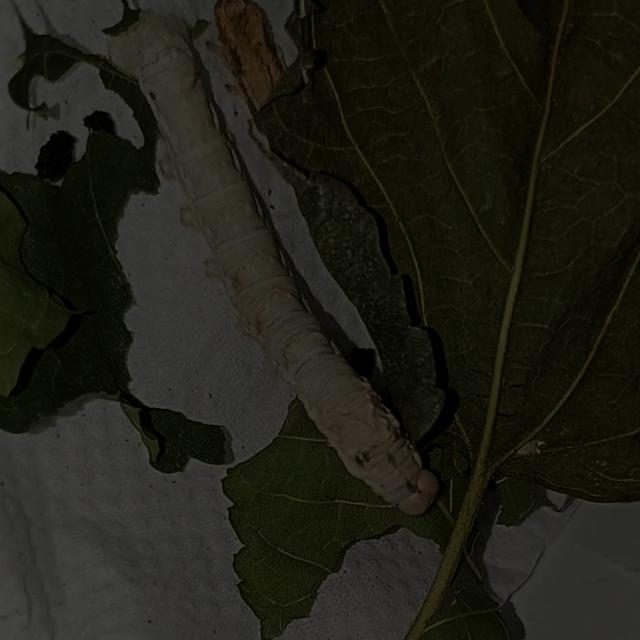Healthy: (96, 5, 445, 518)
